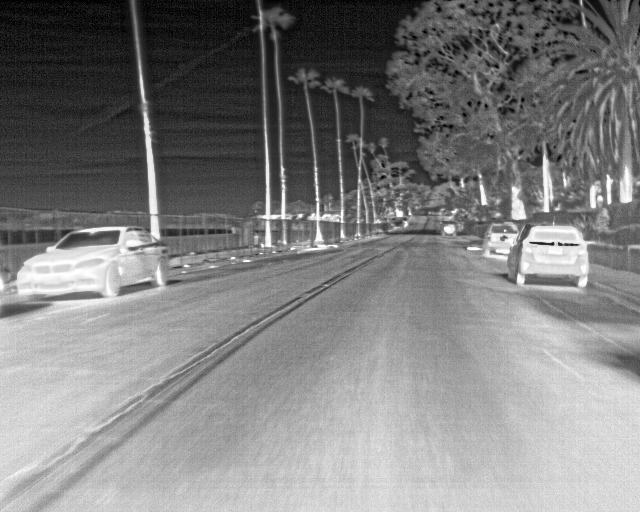car: (14, 225, 168, 301), (507, 225, 591, 289), (482, 223, 522, 258), (441, 220, 458, 236)
